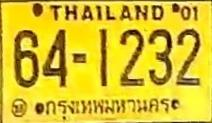1: (99, 28, 107, 86)
2: (119, 28, 144, 86), (176, 27, 200, 84)
3: (148, 28, 173, 85)
4: (42, 28, 67, 87)
6: (14, 29, 38, 88)
BKK: (43, 94, 172, 120)
